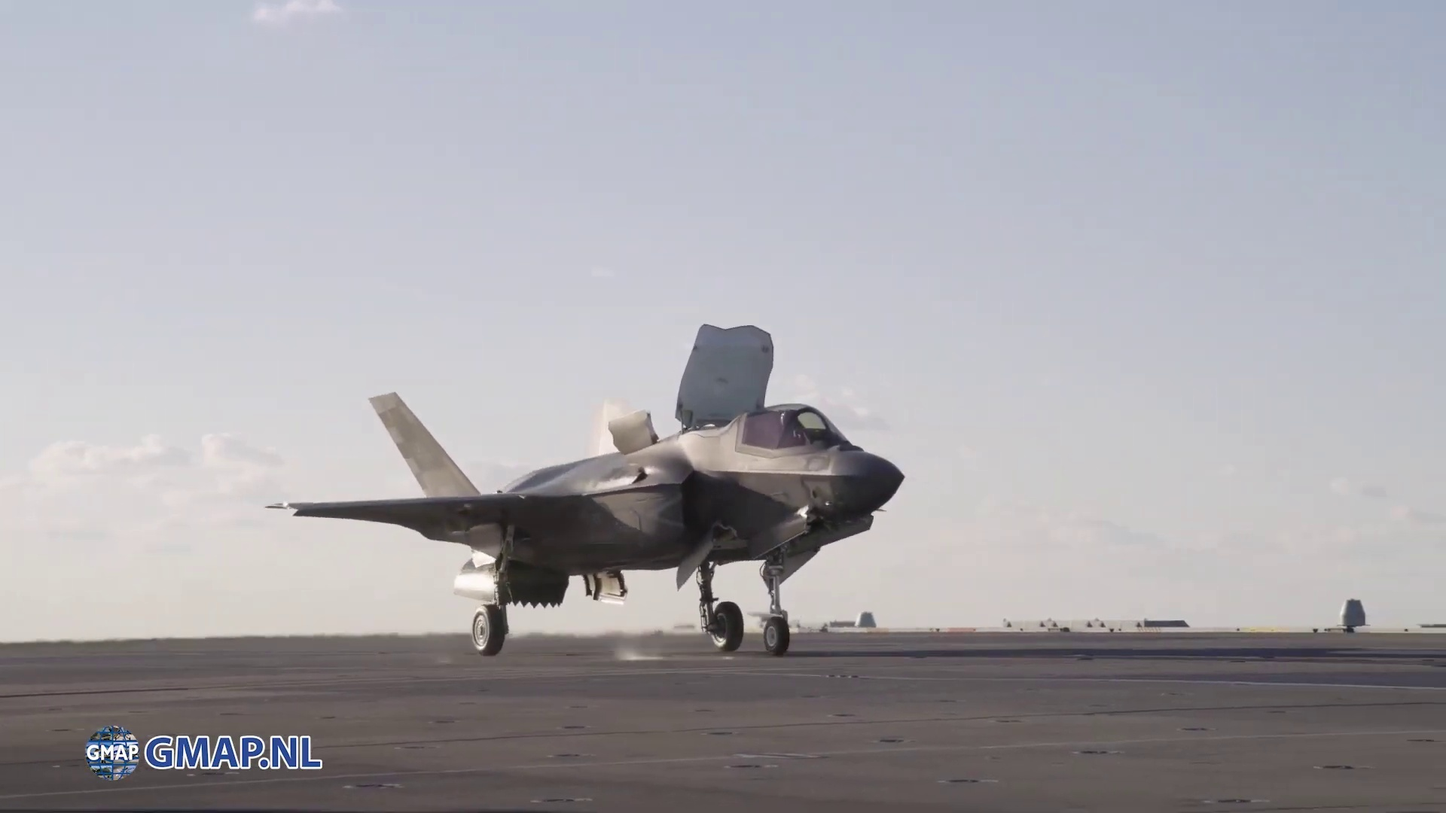F35: (252, 312, 916, 666)
